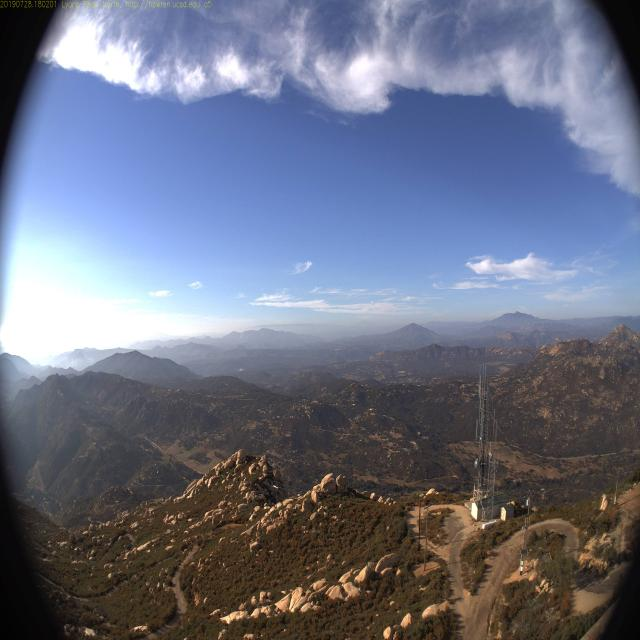smoke: (63, 352, 84, 375)
